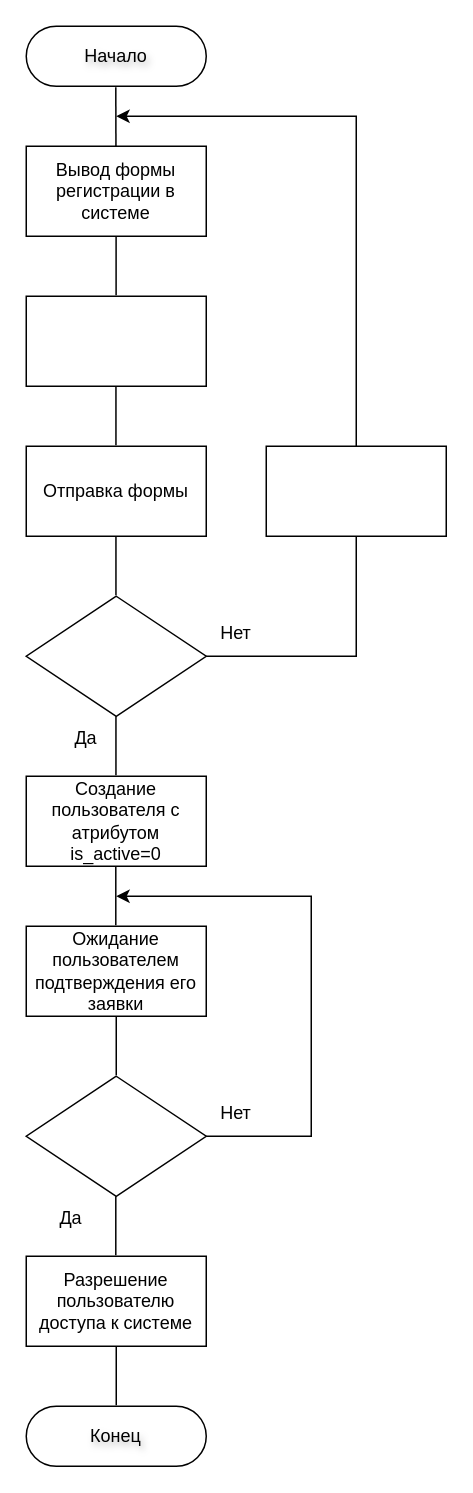
This 473x1493 diagram has some shape labels left out. Each missing label, with the centre of its shape:
Вывод ошибок в форме: pixel 355 490
Заполнение формы регистрации: pixel 115 340
Заявка подтверждена?: pixel 115 1135
Форма валидна?: pixel 115 655
